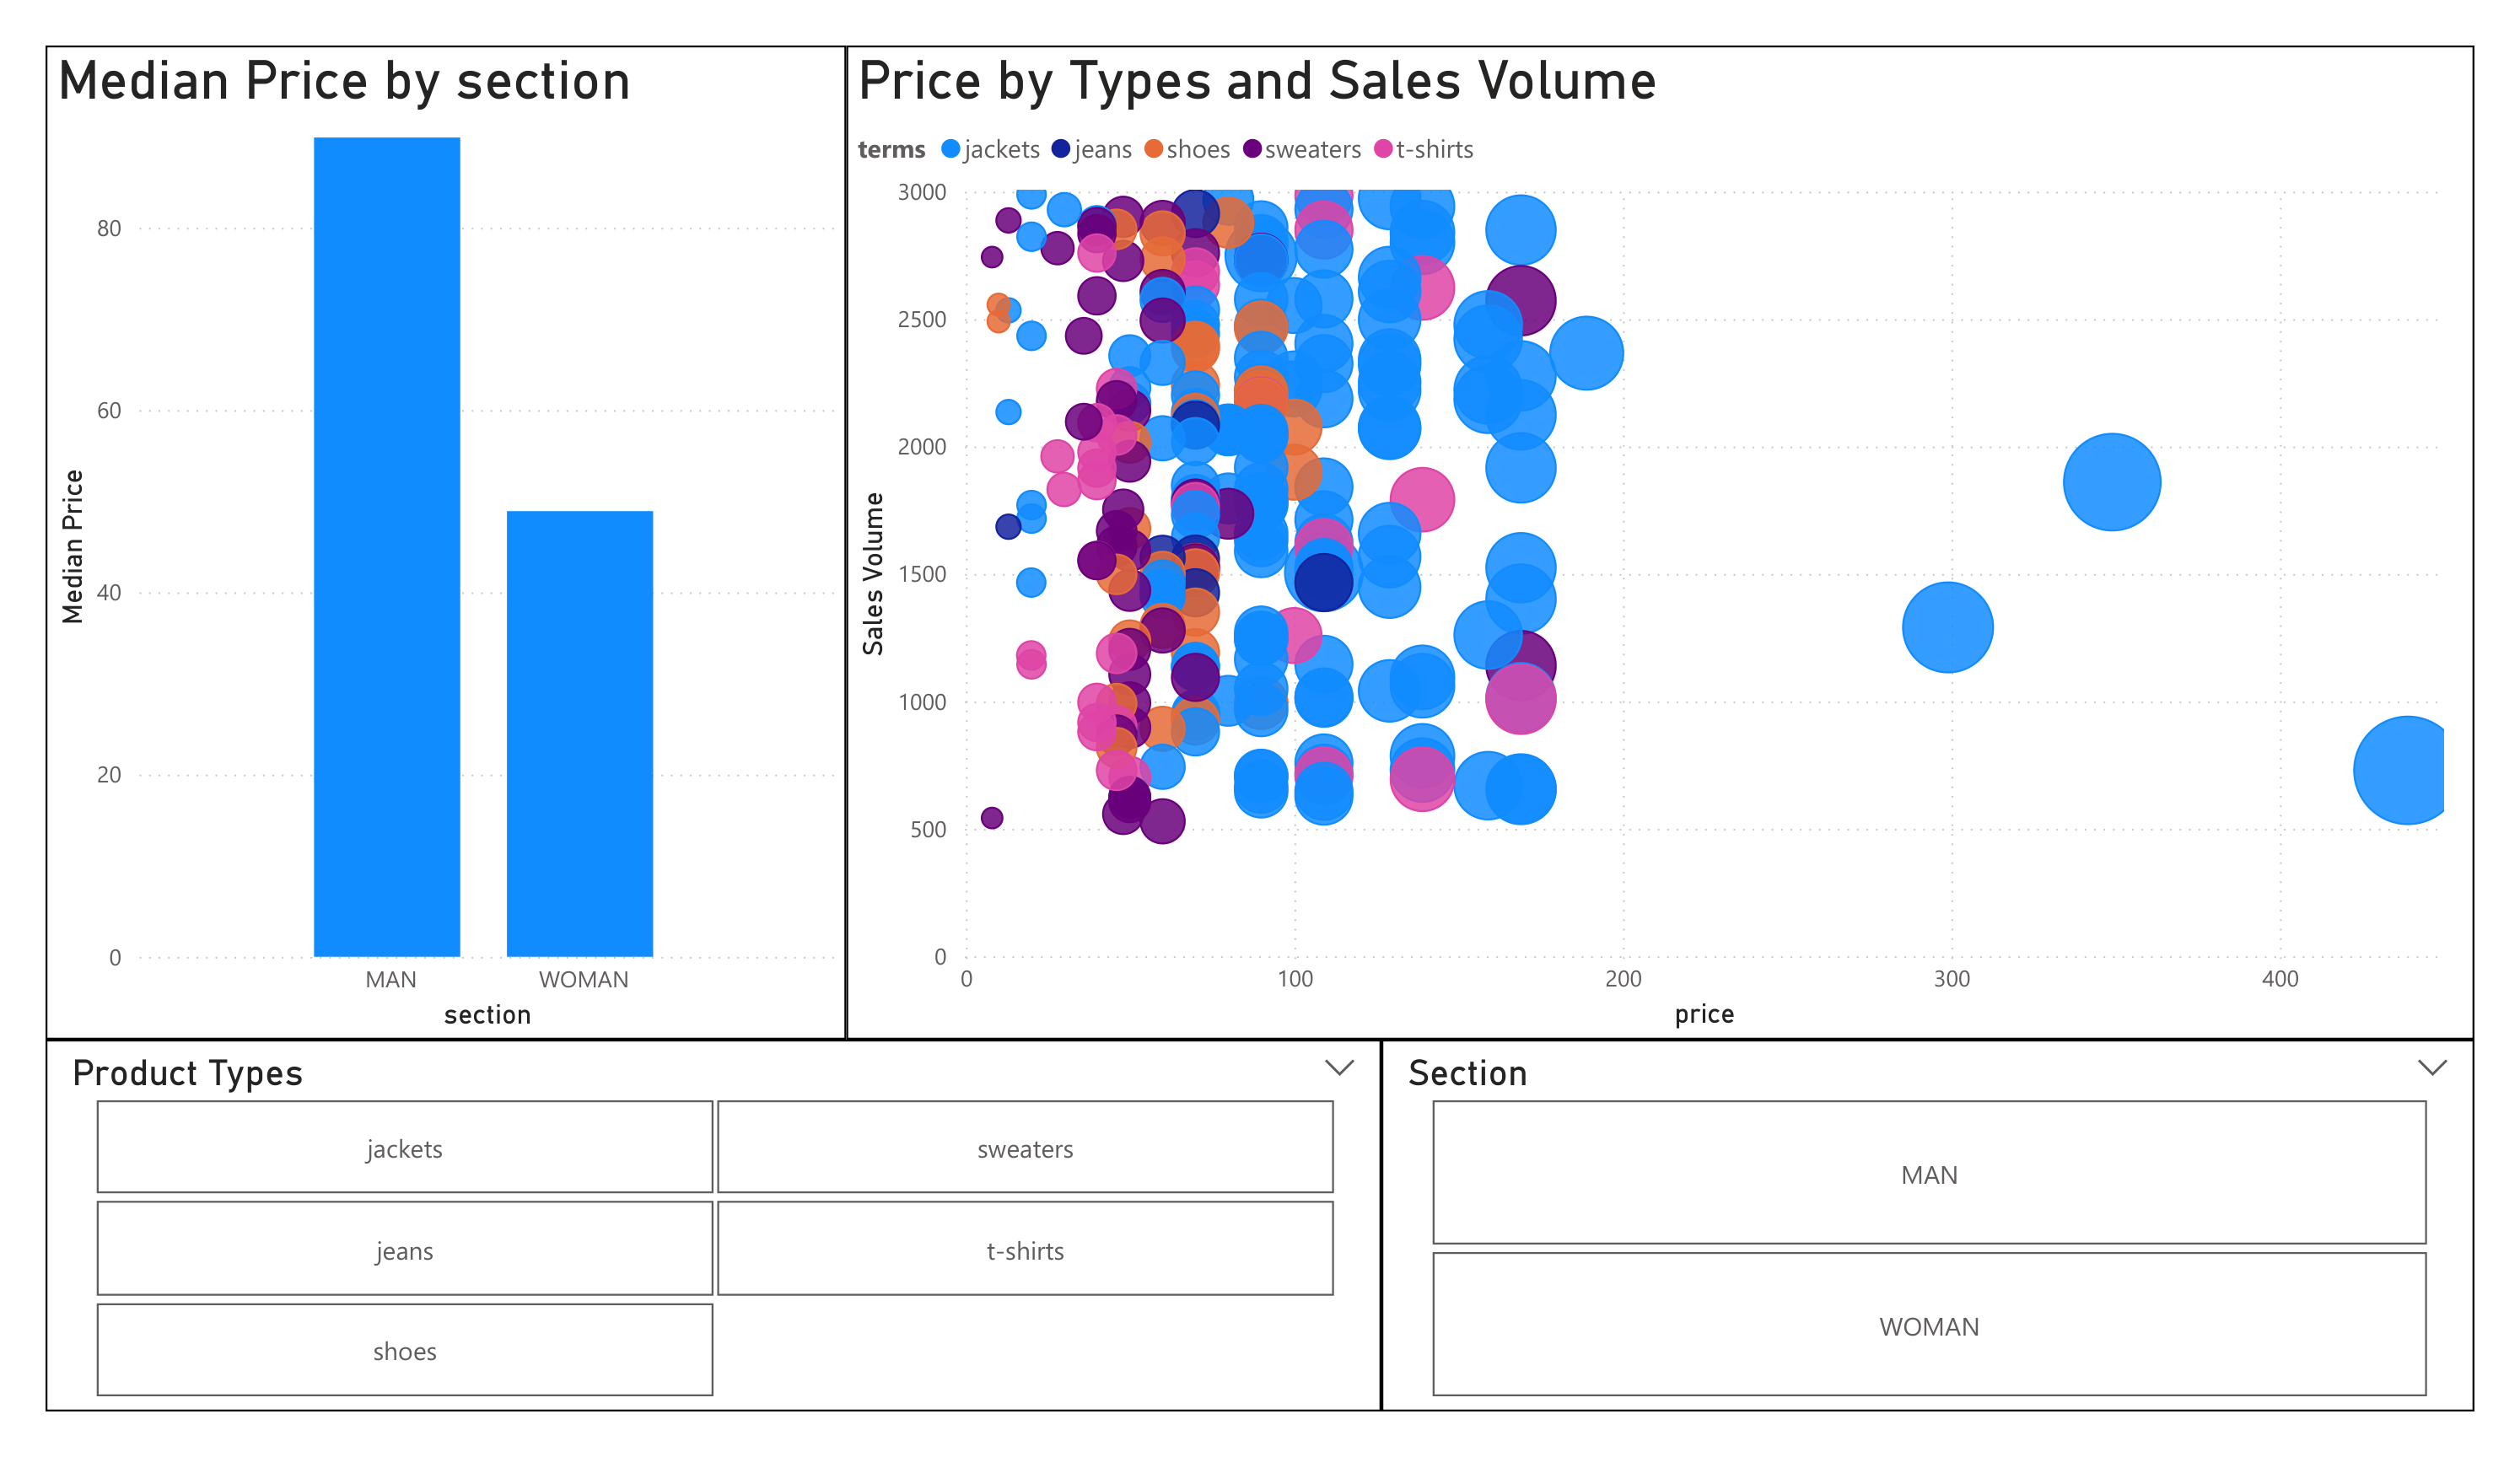

What the dashboard file says about the page in this screenshot:
{"tool":"powerbi","page":{"name":"Page 3","canvas":[1280,720],"ordinal":2},"visuals":[{"type":"columnChart","fields":{"Category":["zara.section"],"Y":["zara.Median Price"]},"box":[0,0,422,524],"z":0},{"type":"scatterChart","title":"Price by Types and Sales Volume","fields":{"X":["zara.price"],"Y":["zara.Sales Volume"],"Size":["Sum(zara.price)1"],"Series":["zara.terms"]},"box":[422,0,858,524],"z":1},{"type":"slicer","fields":{"Values":["zara.terms"]},"box":[0,524,704,196],"z":2},{"type":"slicer","fields":{"Values":["zara.section"]},"box":[704,524,576,196],"z":3}]}

Visuals, with their boxes in screenshot pixels (x1, y1, x2, y2), scaled from the page's 1280x720 canvas onto the 2520x1457 screenshot:
columnChart - zara.section x zara.Median Price: {"x1": 0, "y1": 0, "x2": 831, "y2": 1061}
"Price by Types and Sales Volume" scatterChart: {"x1": 831, "y1": 0, "x2": 2519, "y2": 1061}
slicer - zara.terms: {"x1": 0, "y1": 1061, "x2": 1386, "y2": 1456}
slicer - zara.section: {"x1": 1386, "y1": 1061, "x2": 2519, "y2": 1456}
